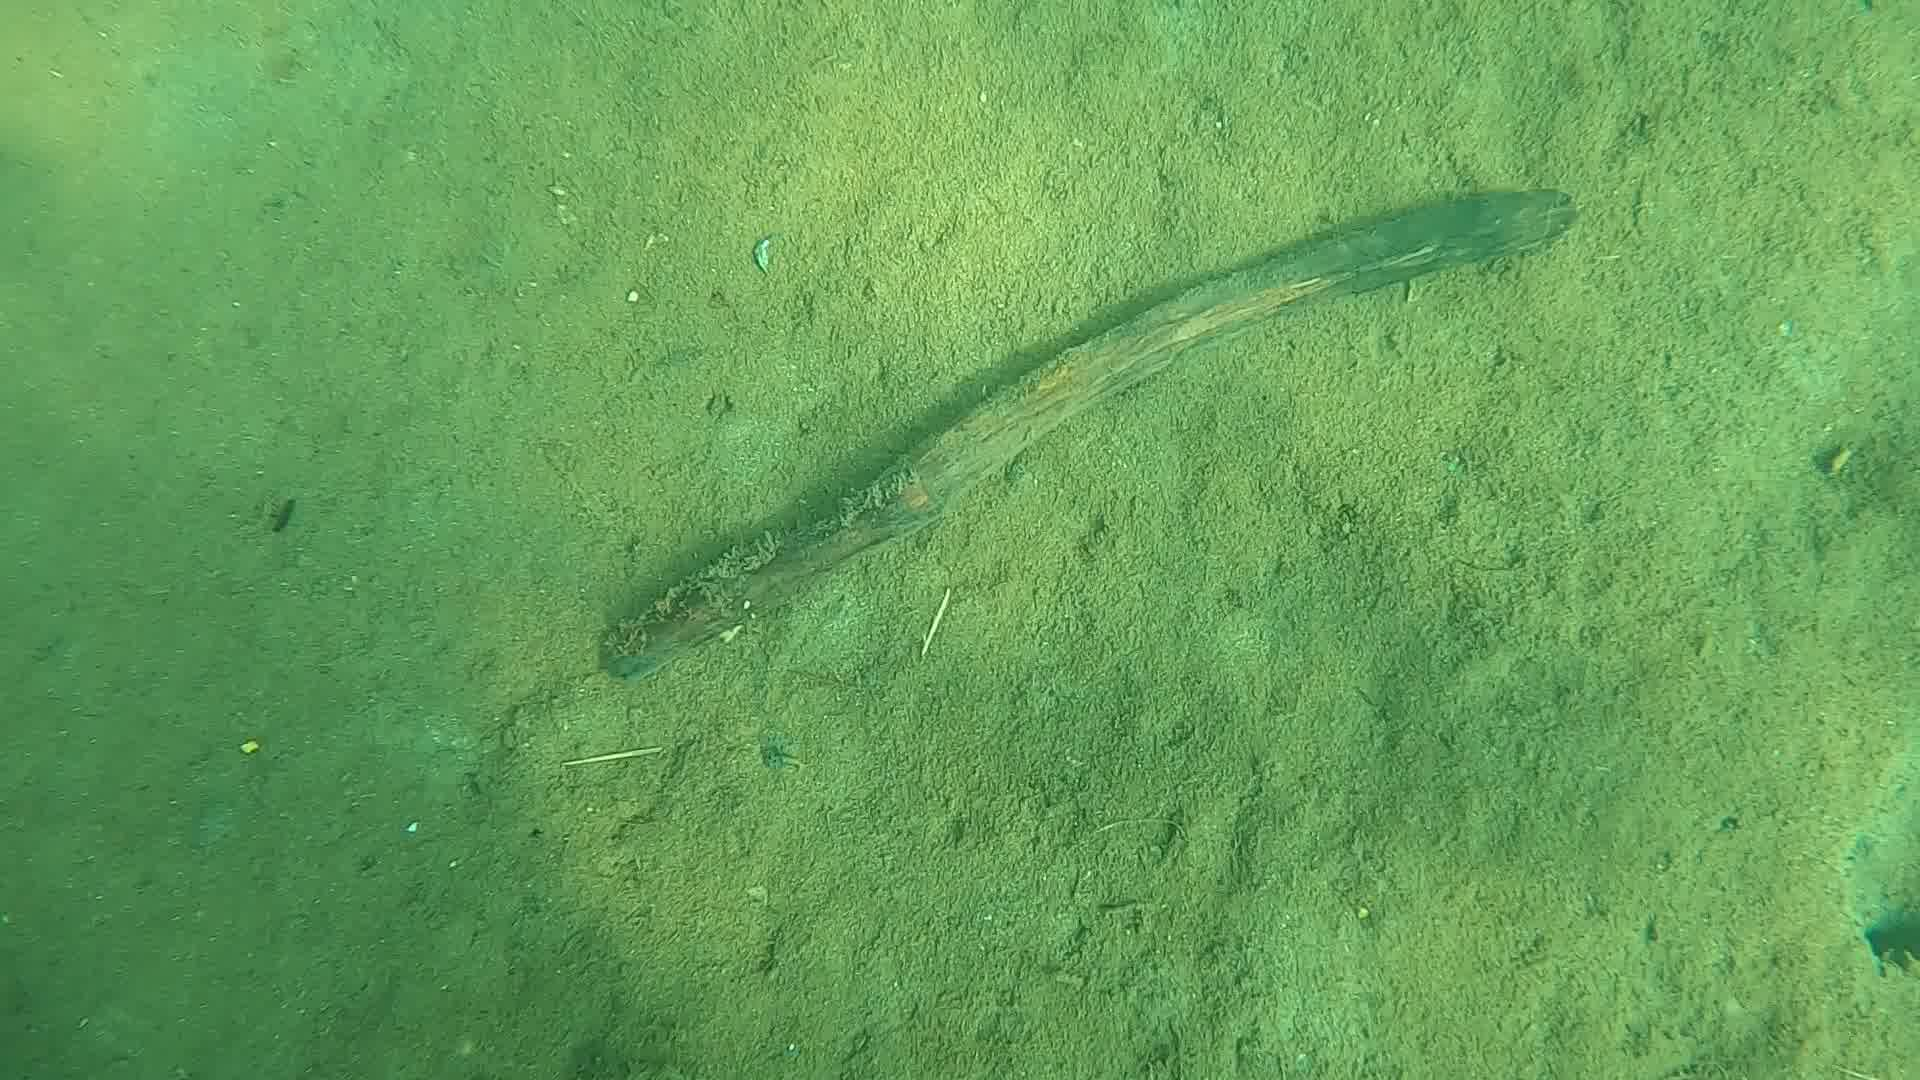wood: (597, 187, 1581, 678)
